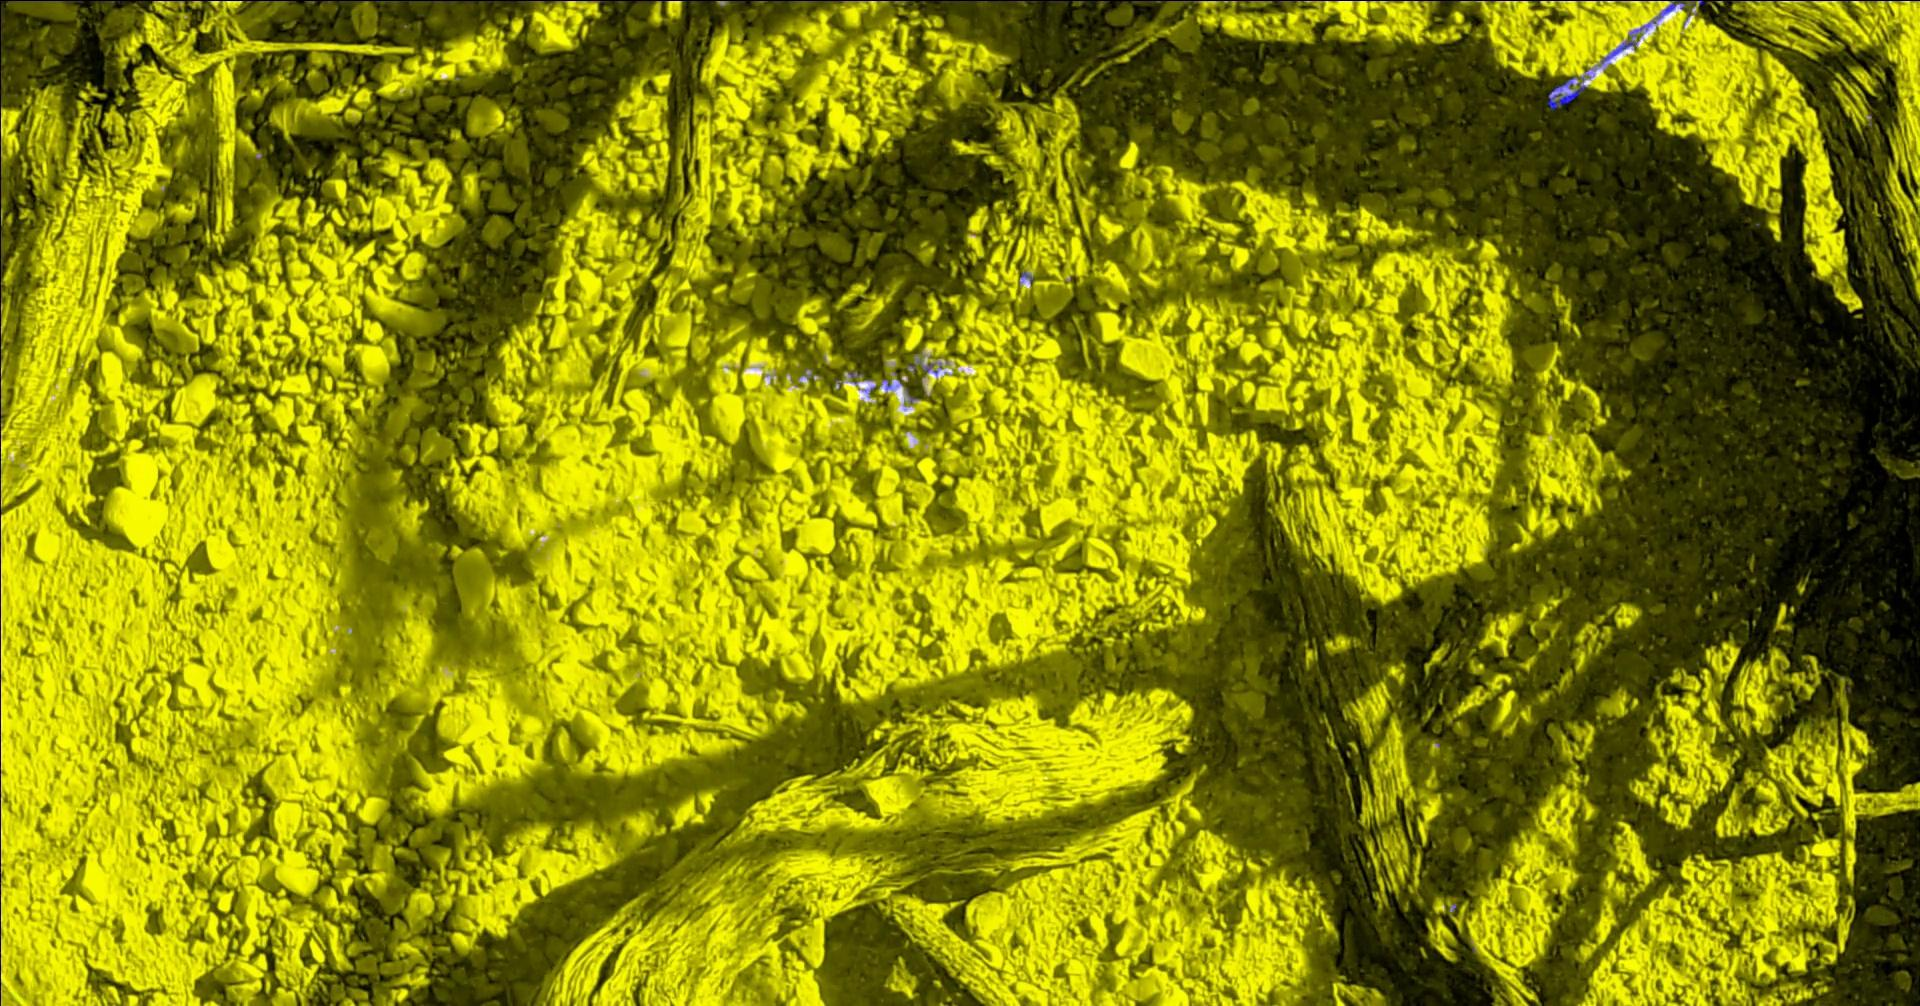ant: (1548, 76, 1589, 109), (1603, 39, 1637, 64), (1665, 0, 1710, 15), (1133, 0, 1199, 3), (340, 0, 458, 1), (9, 0, 84, 1), (790, 0, 844, 1)
